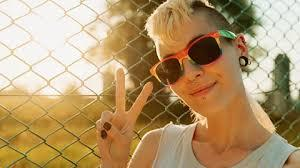sunglasses: (146, 26, 224, 88)
